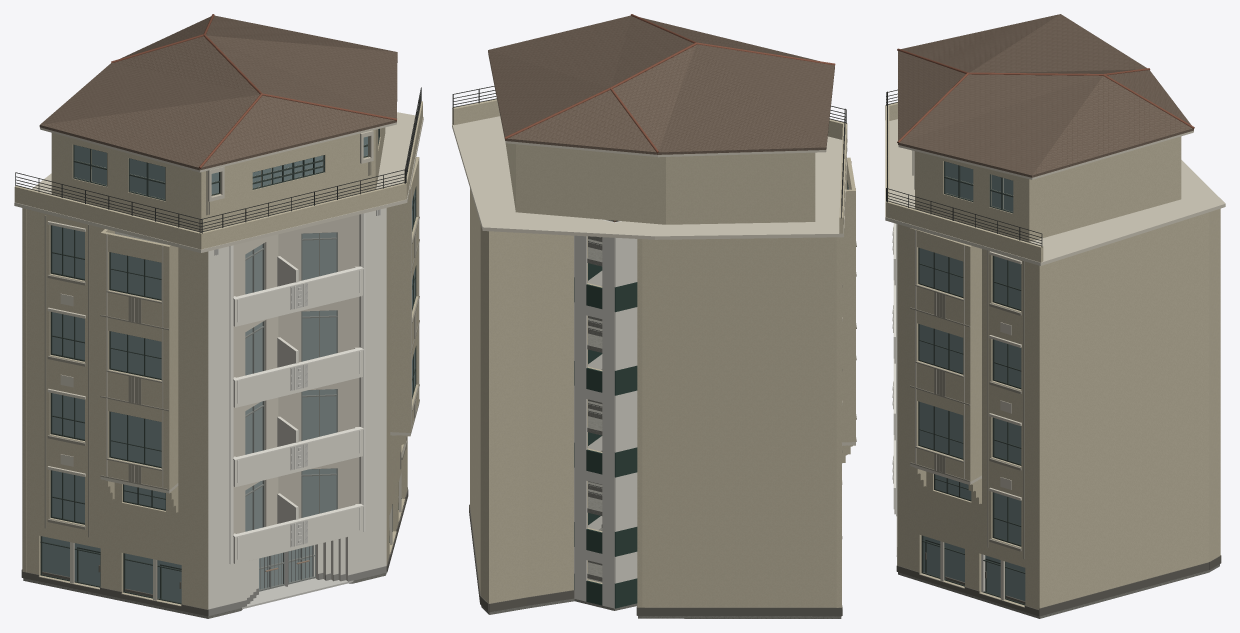
The model's file is full-source.glb.
The picture shows the model from 3 angles, left to right: view 1: azimuth 30°, elevation 25°; view 2: azimuth 150°, elevation 25°; view 3: azimuth 270°, elevation 25°; orthographic projection. The views are drawn at different scales.
Visible parts, largest first — view 1: 白赛仲公寓; view 2: 白赛仲公寓; view 3: 白赛仲公寓.
Part boxes in pixels (x1,y1,x2,y2): 白赛仲公寓: (14,14,423,618); 白赛仲公寓: (452,14,856,618); 白赛仲公寓: (885,14,1225,618).
Size of the model in its own units: 18.27 by 21.35 by 14.14.
22 materials, 3 textured.
